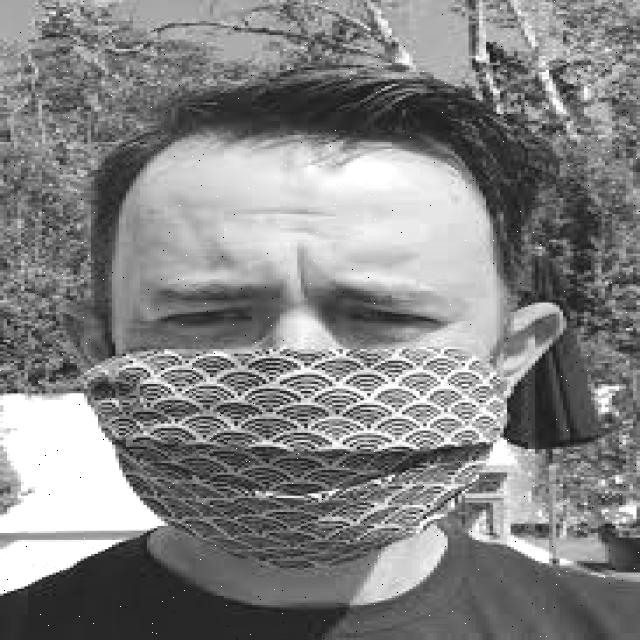fake: (35, 334, 609, 572)
real: (108, 132, 505, 580)
